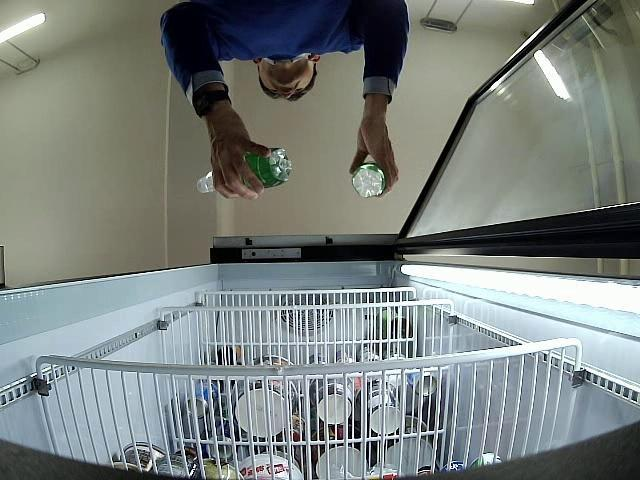18_trevi: (198, 149, 292, 194), (352, 164, 386, 198)
